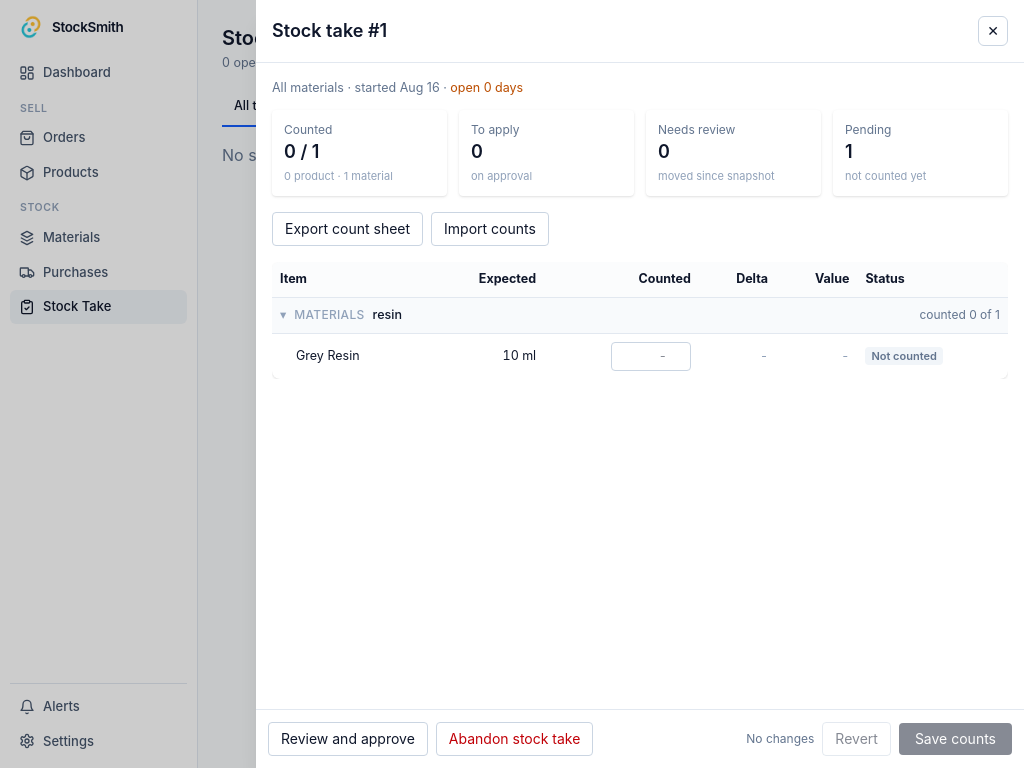
it: count sheet › enables Save only once a count has been typed
The width and height of the screenshot is (1024, 768).
Check: the heading "Stock take #1" is shown, box [272, 17, 387, 45]
Check: the button "Save counts" is disabled, box [899, 723, 1012, 755]
In the number field: (651, 356) [611, 342, 691, 371], type "8"
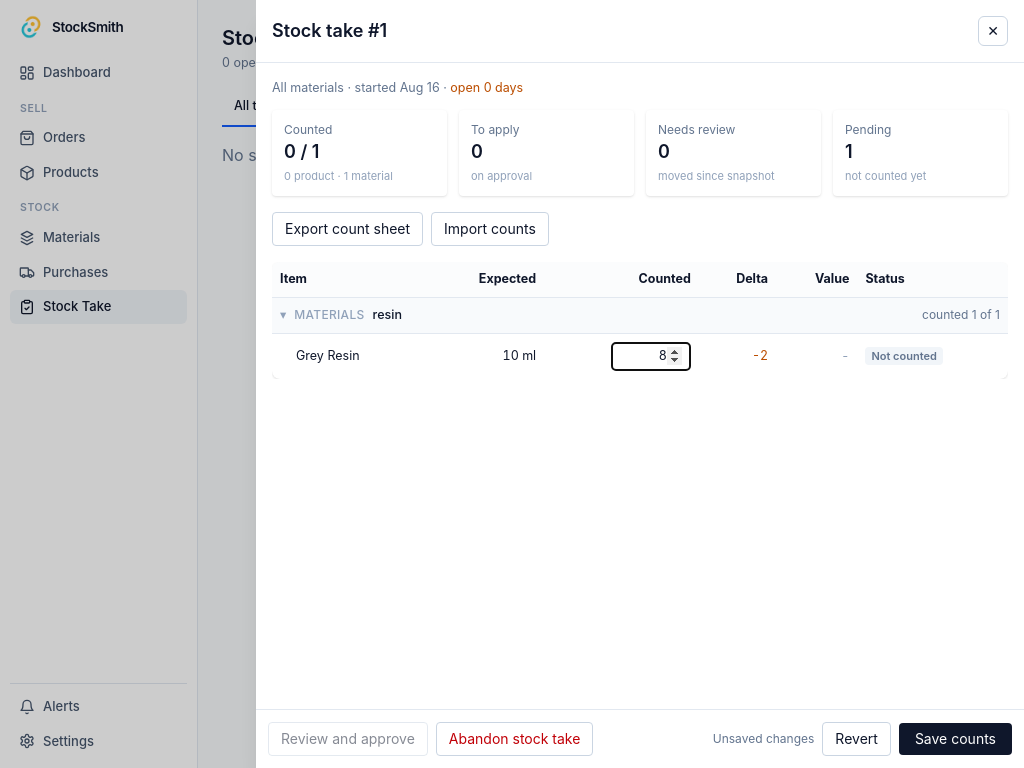
Check: the button "Save counts" is enabled, box [899, 723, 1012, 755]
